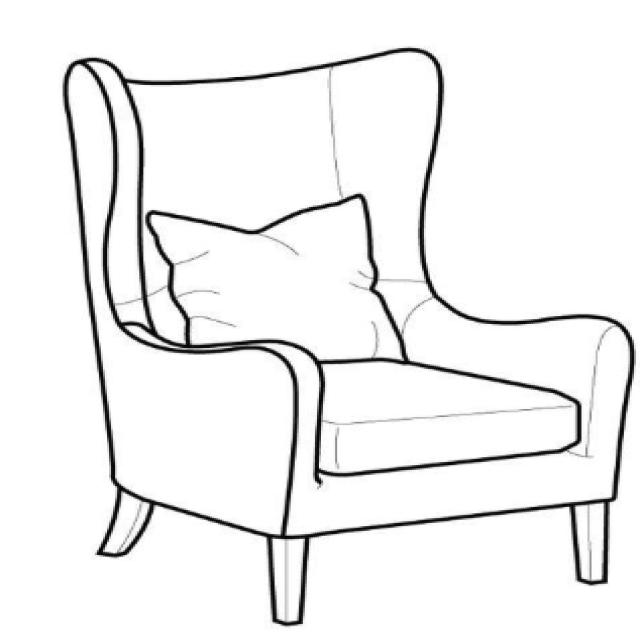Armrest: (91, 325, 326, 541), (402, 296, 634, 461)
Backrest: (120, 63, 418, 363)
Leg_Structure: (91, 484, 615, 627)
Seat: (314, 356, 588, 476)
Wing_Flange: (335, 47, 444, 323), (62, 59, 144, 339)
